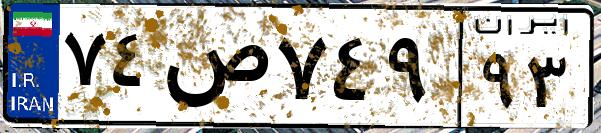3: (525, 38, 570, 115)
4: (330, 28, 385, 110), (110, 28, 158, 98)
7: (270, 28, 330, 110), (57, 26, 110, 100)
9: (385, 28, 445, 110), (475, 38, 525, 113)
ص: (158, 20, 270, 120)
